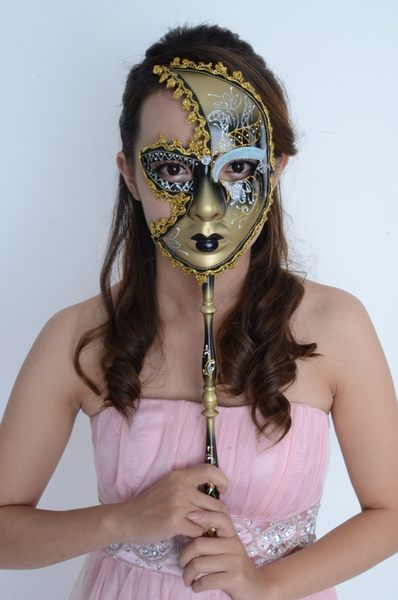face_mask: (139, 76, 262, 267)
